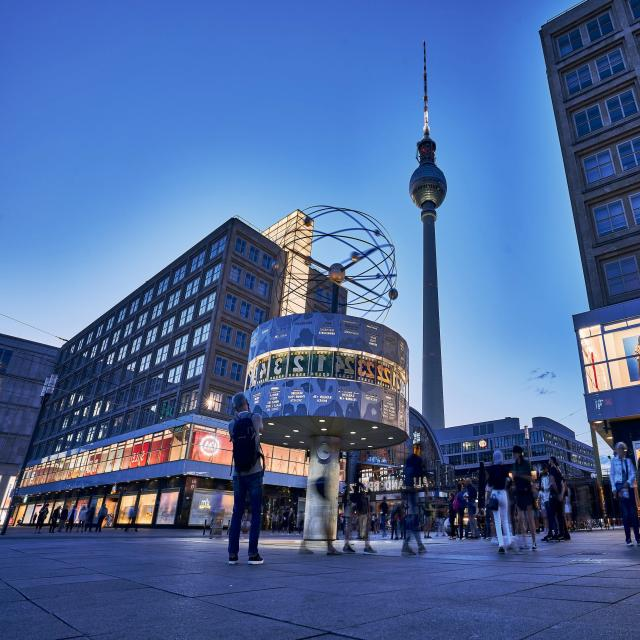adult: (228, 393, 264, 564), (610, 443, 640, 545), (486, 451, 513, 553), (513, 446, 538, 550), (540, 456, 564, 542), (540, 464, 558, 541), (464, 478, 480, 538), (457, 483, 468, 540), (448, 492, 456, 540)
